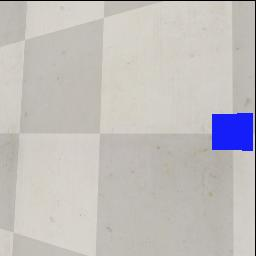box: (210, 113, 253, 151)
